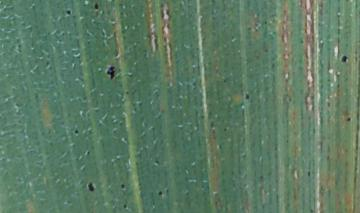tarspot: (104, 62, 118, 82), (85, 179, 97, 195), (338, 53, 350, 65), (242, 88, 252, 102), (304, 167, 314, 180), (91, 1, 101, 13), (344, 114, 354, 125), (64, 7, 73, 19), (118, 180, 127, 192), (72, 125, 80, 138), (155, 190, 165, 200), (121, 201, 130, 211)
